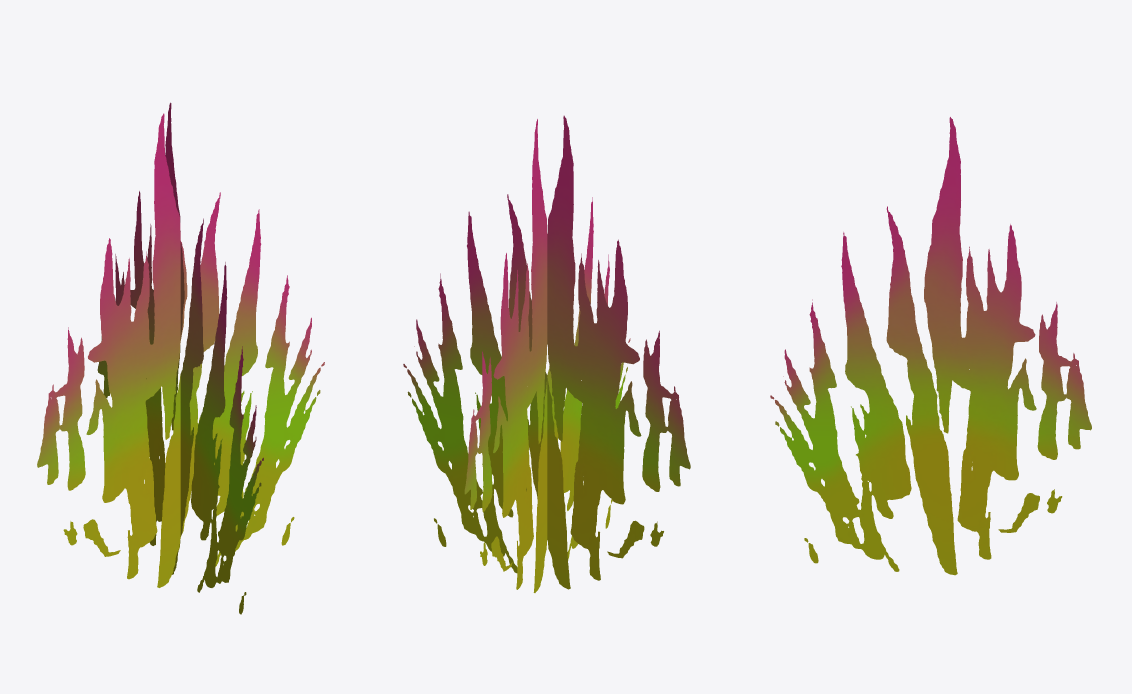
File: PoisonForestGrass.fbx
3 views of the same model, side by side, from view 1: azimuth 30°, elevation 25°; view 2: azimuth 150°, elevation 25°; view 3: azimuth 270°, elevation 25° (orthographic). The views are drawn at different scales.
Parts seen in each view (by area): view 1: ядовитый лес трава; view 2: ядовитый лес трава; view 3: ядовитый лес трава.
Part boxes in pixels (x1,y1,x2,y2): ядовитый лес трава: (37, 102, 324, 614); ядовитый лес трава: (403, 115, 690, 592); ядовитый лес трава: (770, 117, 1091, 575).
Bounding box in the file's own units: 60.57 × 91.02 × 60.57.
